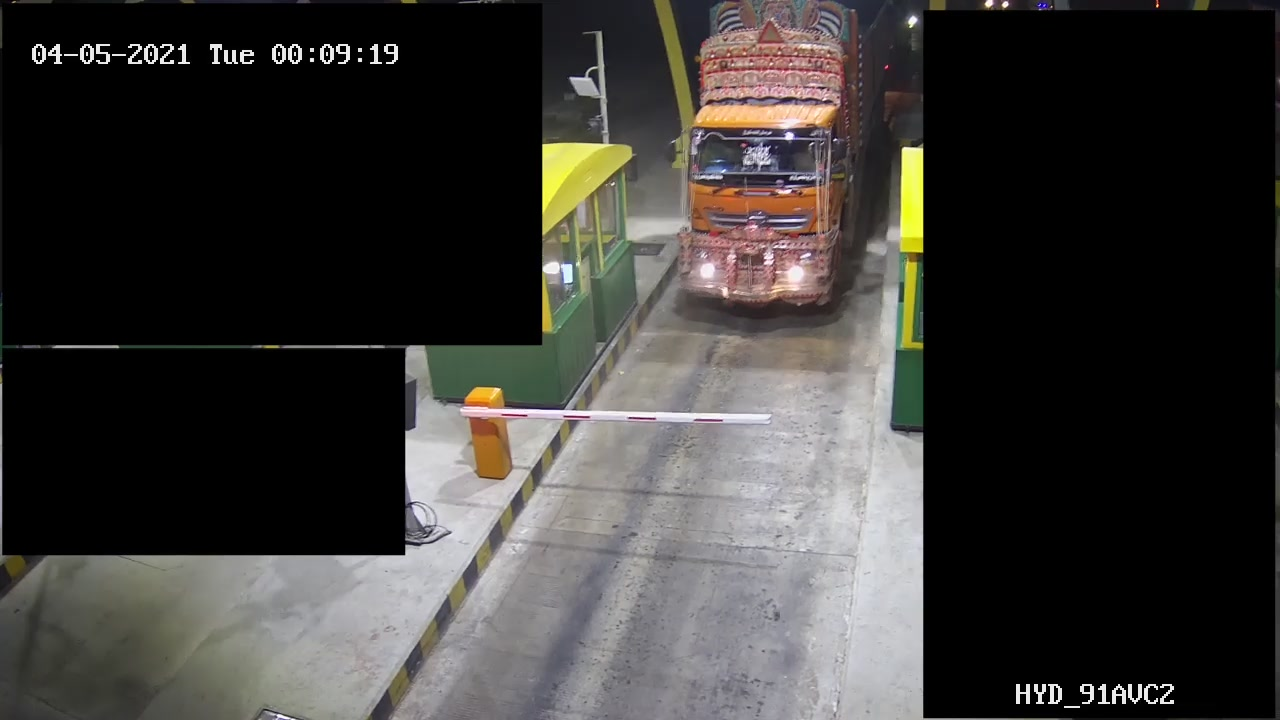F6: (675, 1, 884, 309)
